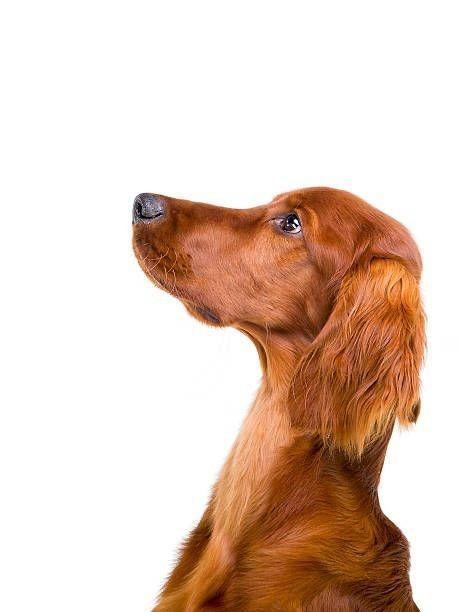adult_dog: (129, 184, 431, 612)
